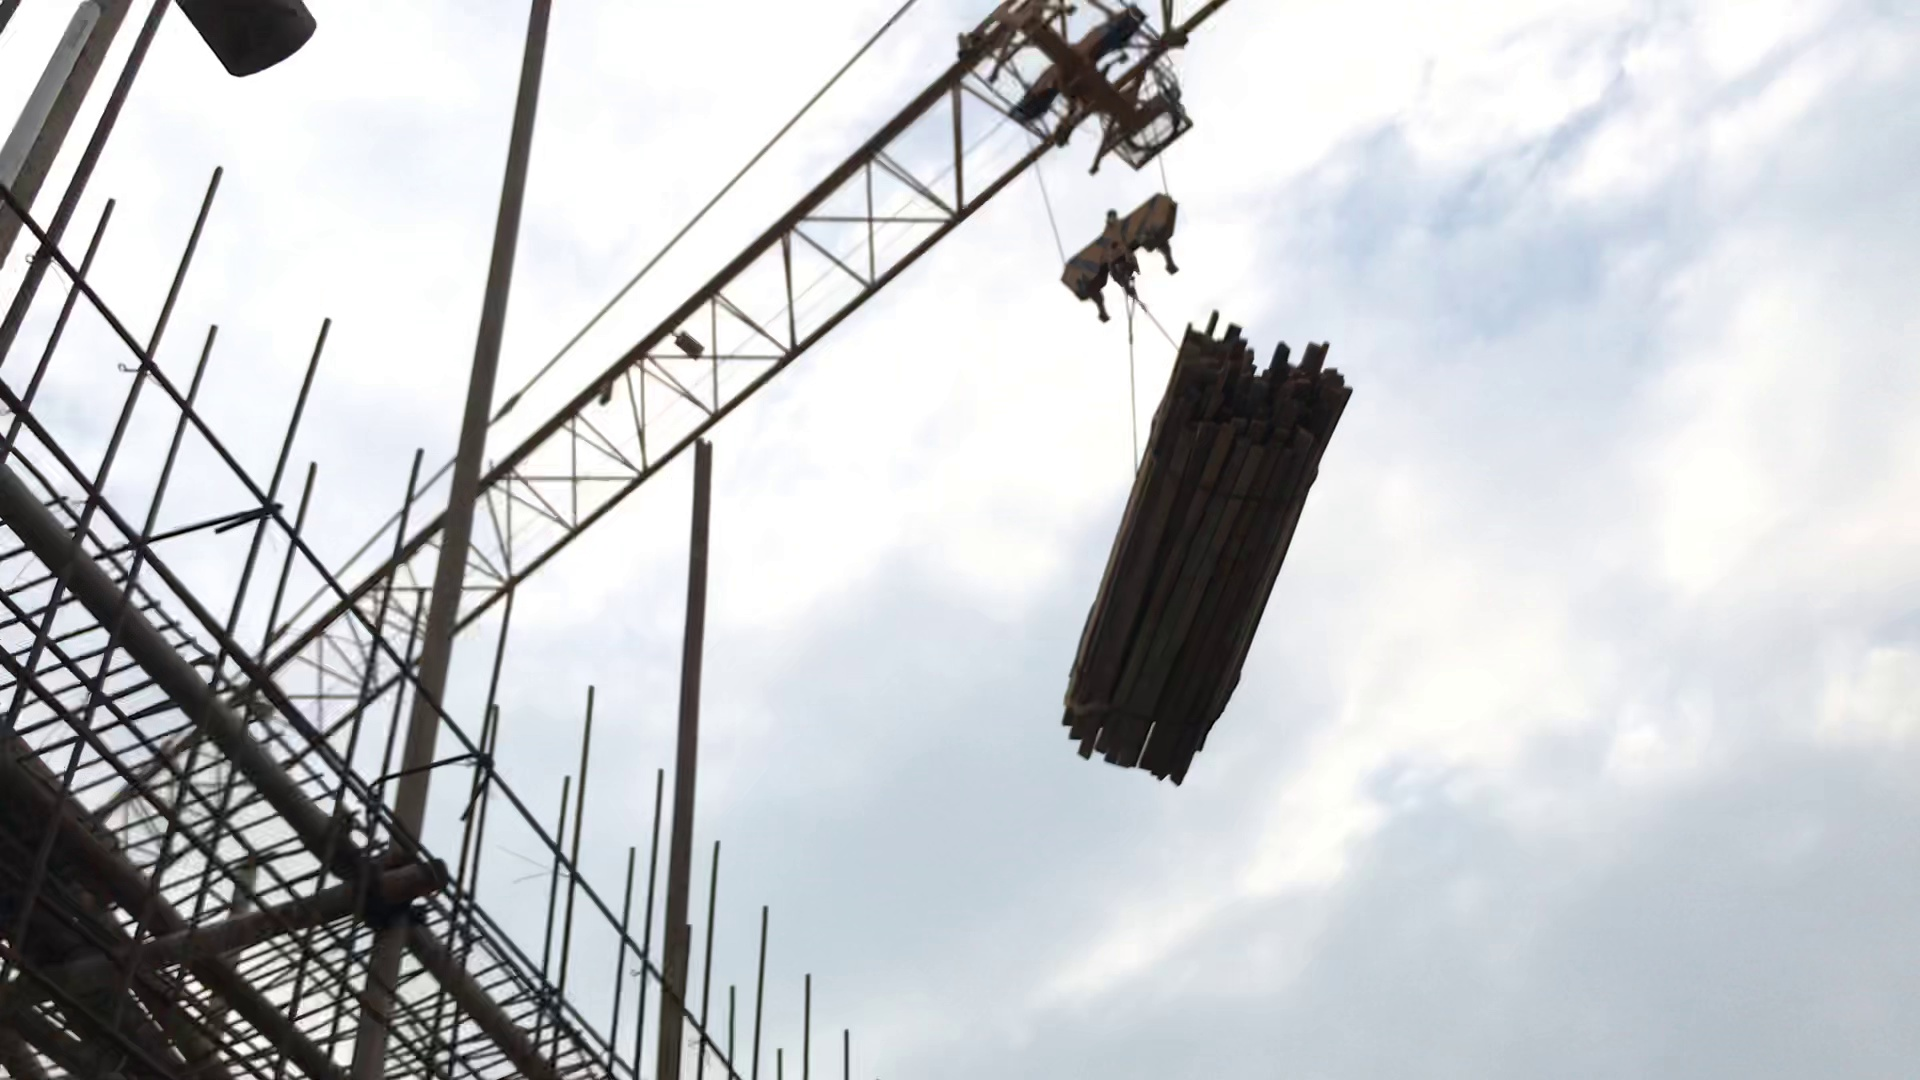hook: (1055, 189, 1220, 323)
wood: (1044, 313, 1357, 802)
